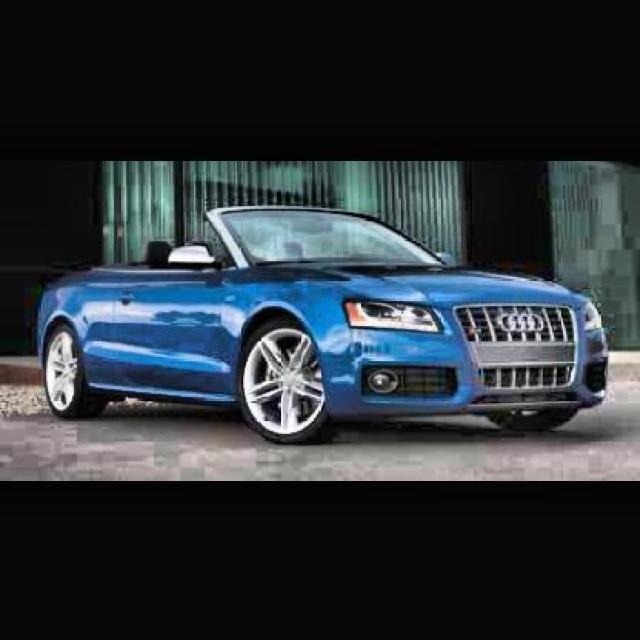blue: (26, 203, 597, 439)
